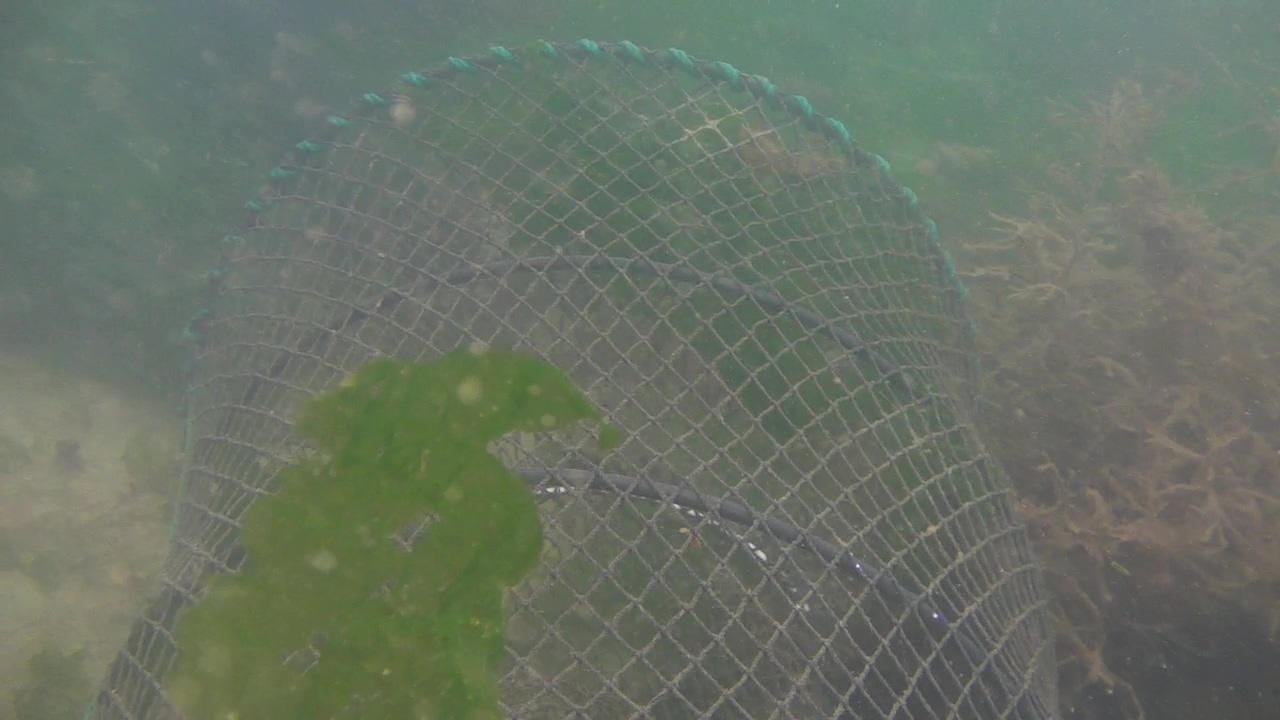spring fish trap: (86, 37, 1058, 720)
